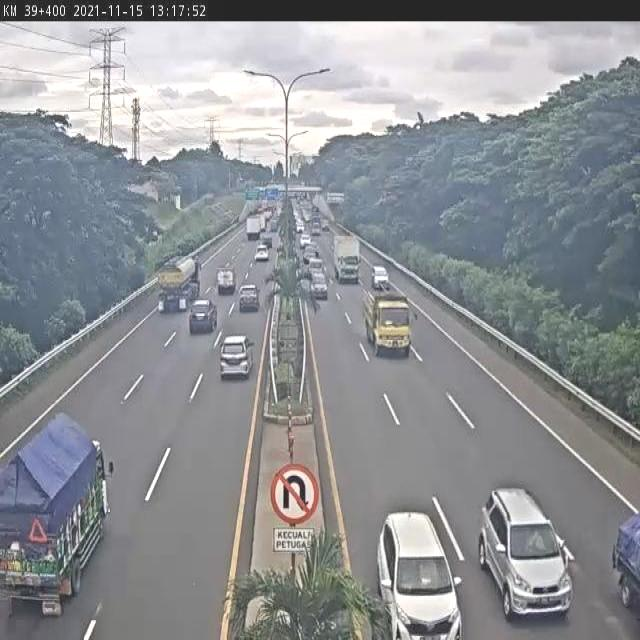Car: (478, 477, 575, 621), (374, 509, 464, 640), (186, 292, 225, 341), (218, 332, 254, 379), (238, 283, 260, 312), (310, 272, 328, 299), (371, 266, 389, 291), (302, 245, 318, 266), (254, 245, 270, 262), (261, 230, 274, 248), (299, 232, 311, 250), (322, 218, 330, 231)
Truck: (0, 412, 125, 614), (358, 286, 418, 358), (154, 246, 208, 309), (332, 234, 360, 284), (216, 266, 237, 294), (246, 216, 262, 242)
